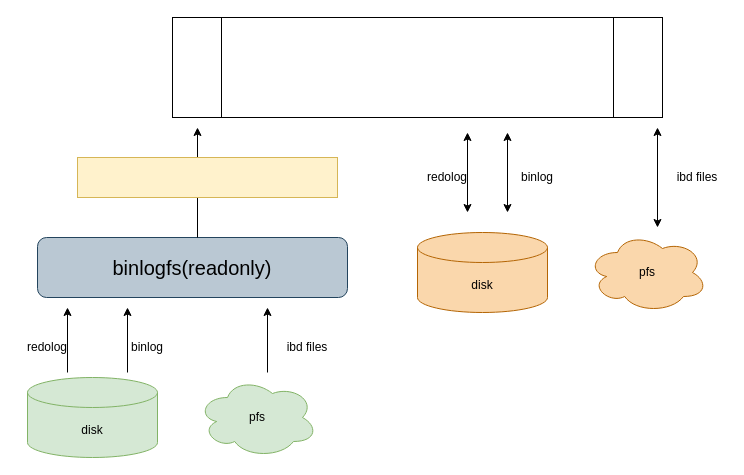
Some shapes in this 744 by 475 pixel diagram are drawn without their labels. The centre of each missing label's shape, as x and y in pixels:
"lib c" api to read/write files: (x=207, y=177)
MySQL(restore): (x=417, y=67)
